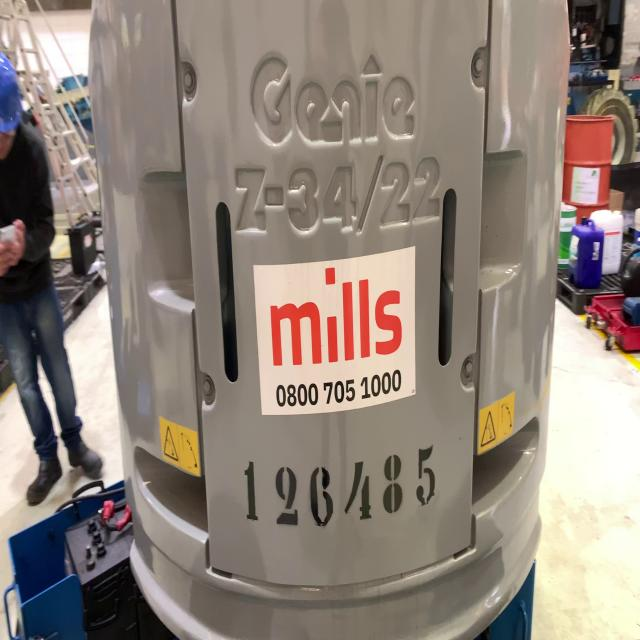Adesivos: (252, 237, 420, 420)
